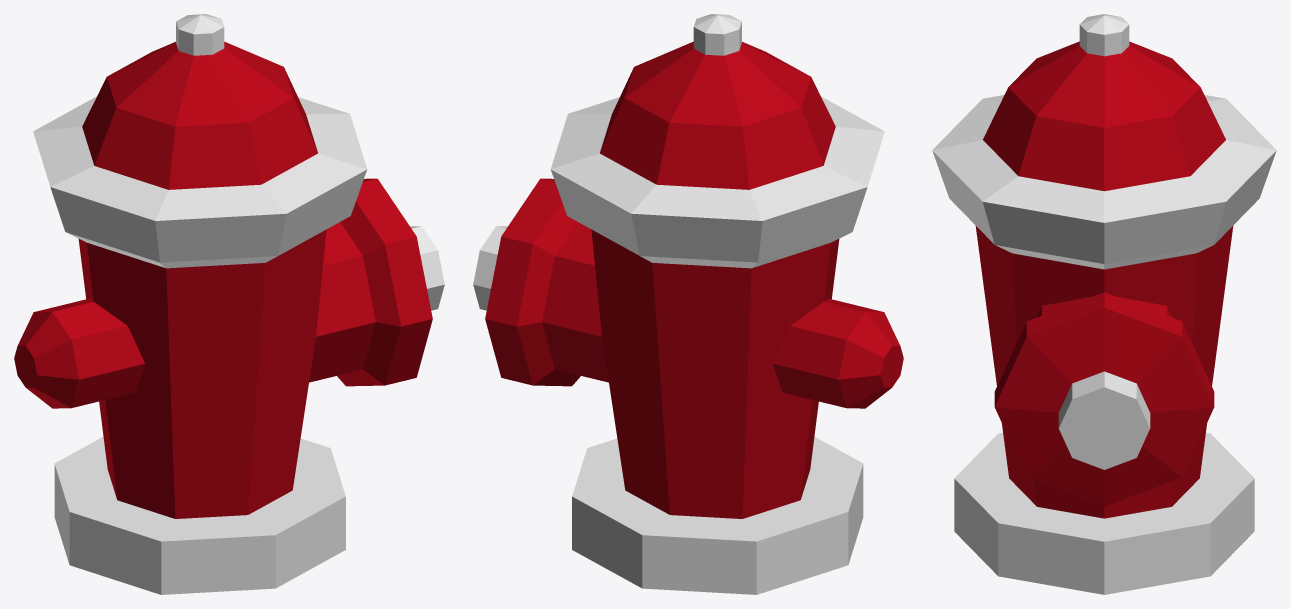
The model's file is Hydrant 1.fbx.
3 views of the same model, side by side, from view 1: azimuth 30°, elevation 25°; view 2: azimuth 150°, elevation 25°; view 3: azimuth 270°, elevation 25° (orthographic).
Visible parts, largest first — view 1: Hydrant_01; view 2: Hydrant_01; view 3: Hydrant_01.
Part boxes in pixels (left/top/right/bottom): Hydrant_01: left=14, top=14, right=444, bottom=594; Hydrant_01: left=473, top=14, right=903, bottom=594; Hydrant_01: left=932, top=14, right=1276, bottom=594.
Size of the model in its own units: 50.45 by 63.05 by 38.16.
